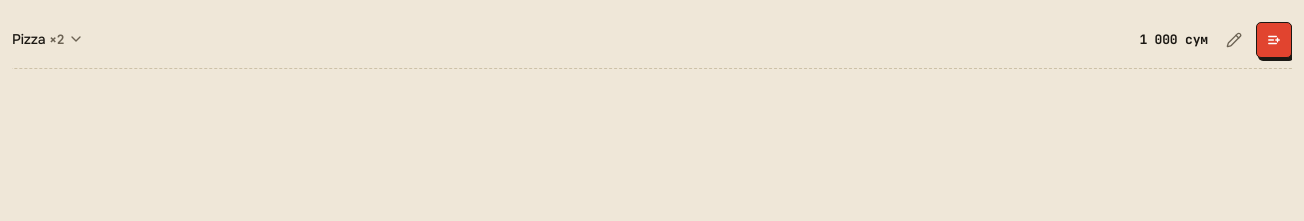
Test: receipt positions › changes how many dishes a line has from its editor
The width and height of the screenshot is (1304, 221).
Later steps or results of the test are not shown.
Click the button named "Edit: Pizza ×2" at point(1234, 40), box [1216, 22, 1252, 58]
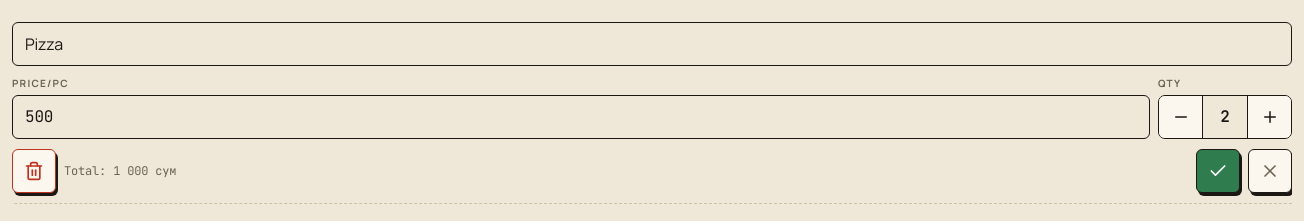
Click the button named "+" at point(1269, 117), box [1247, 96, 1291, 138]
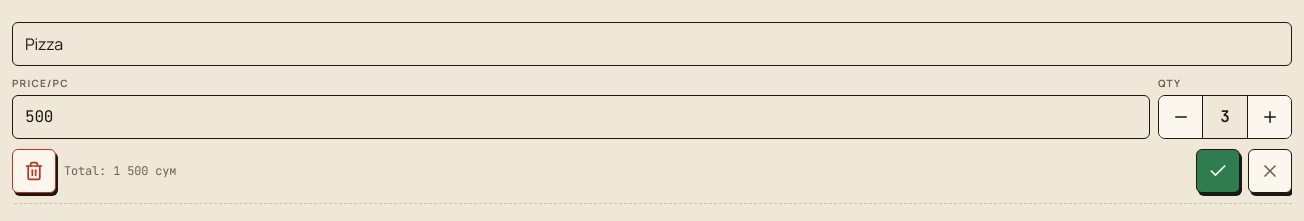
Expected: the text "3" is shown, [1203, 96, 1247, 138]
Expected: the text "Total: 1 500 сум" is shown, [64, 163, 176, 179]
